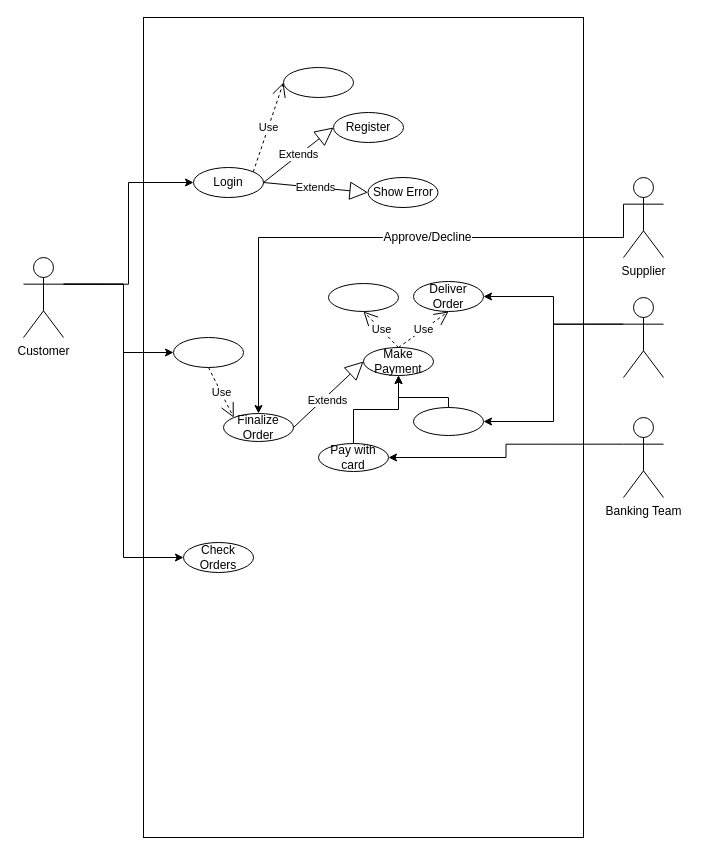
This 709x855 diagram has some shape labels left out. Here are the shapes that lost their labels. From the top down, the centre of each, then its label:
At point (318, 82): "Verify Account".
At point (363, 297): "Generate Invoice".
At point (208, 352): "Make Order".
At point (643, 337): "Delivery Company".
At point (448, 421): "Pay with cash".
